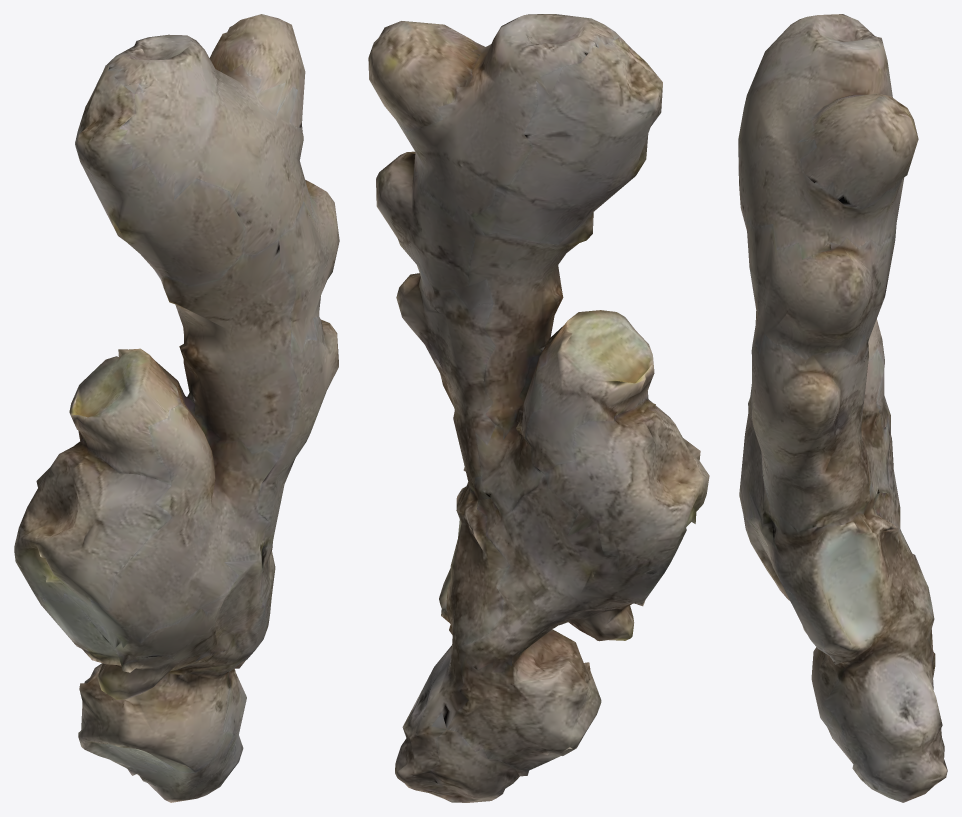
The model's file is food_ginger_01.glb.
3 views of the same model, side by side, from view 1: azimuth 30°, elevation 25°; view 2: azimuth 150°, elevation 25°; view 3: azimuth 270°, elevation 25° (orthographic). The views are drawn at different scales.
Parts seen in each view (by area): view 1: food_ginger_01; view 2: food_ginger_01; view 3: food_ginger_01.
Part boxes in pixels (box(x1,y1,x2,y2)): food_ginger_01: box(14, 14, 339, 802); food_ginger_01: box(368, 14, 709, 802); food_ginger_01: box(738, 14, 947, 802).
Size of the model in its own units: 0.2398 by 0.5746 by 0.1474.
Materials: 1 (1 with a texture image).
